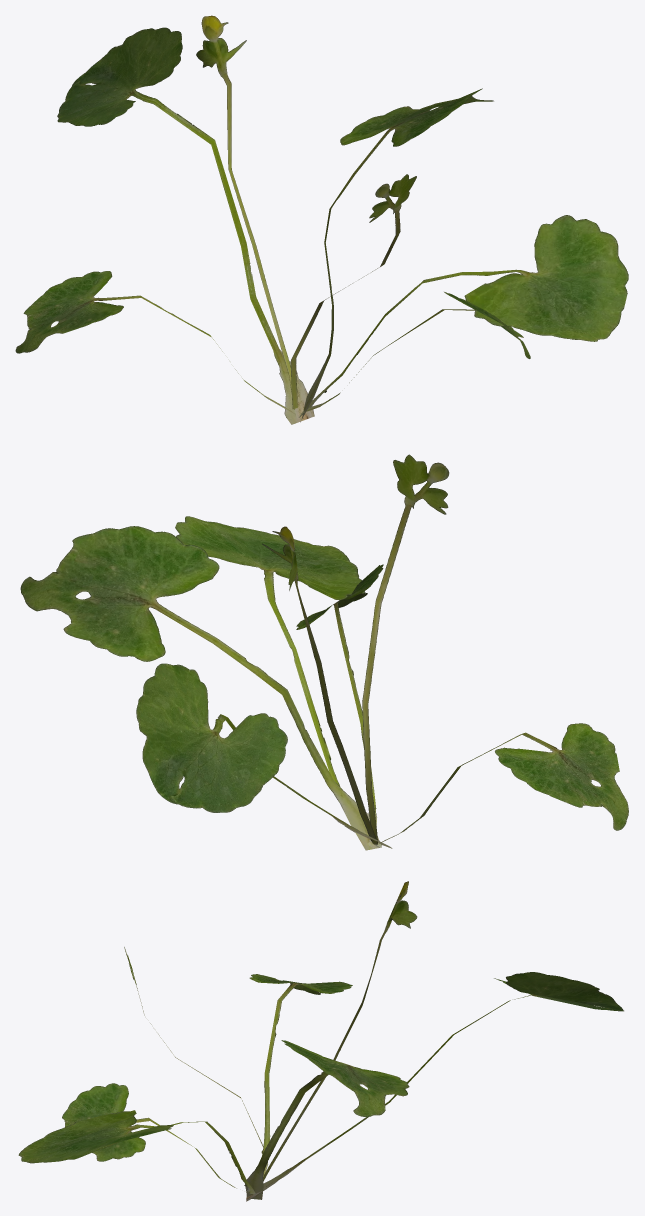
Rendered from celandine_01_e_LOD1.glb.
3 renders of one model, top to bottom at view 1: azimuth 30°, elevation 25°; view 2: azimuth 150°, elevation 25°; view 3: azimuth 270°, elevation 25°, orthographic. The views are drawn at different scales.
Visible parts, largest first — view 1: celandine_01_e_LOD1__lod0; view 2: celandine_01_e_LOD1__lod0; view 3: celandine_01_e_LOD1__lod0.
Part boxes in pixels (x1,y1,x2,y2): celandine_01_e_LOD1__lod0: (15, 15, 628, 424); celandine_01_e_LOD1__lod0: (20, 454, 628, 850); celandine_01_e_LOD1__lod0: (18, 881, 623, 1201).
Size of what is drawn, in the model's own units: 0.1883 by 0.1231 by 0.2177.
1 material, 1 textured.
